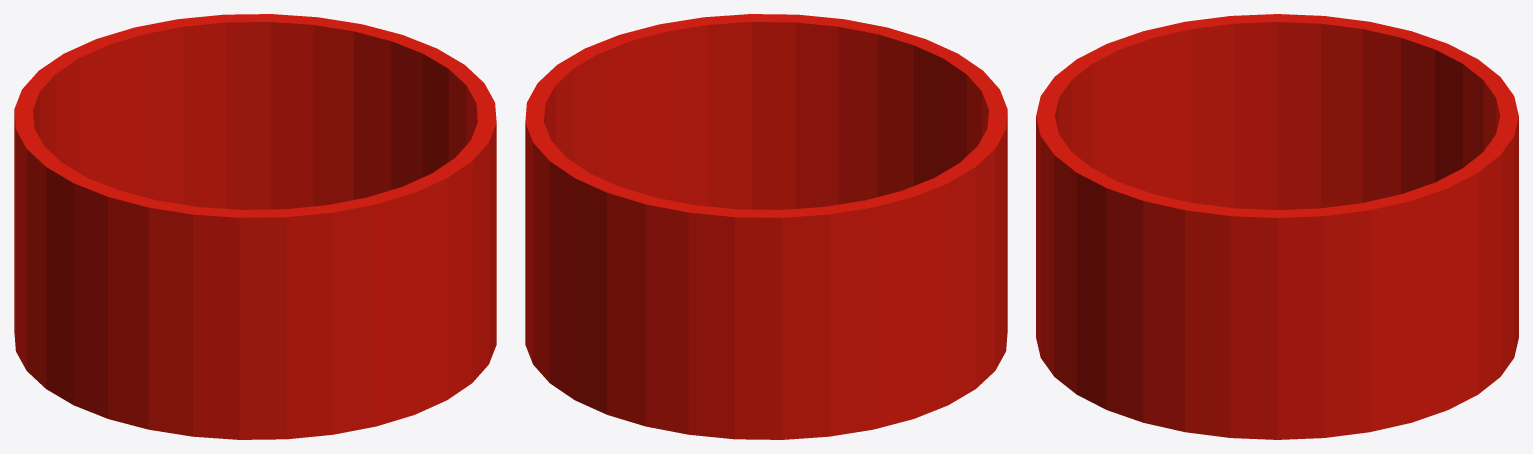
File: ring_wall.fbx
3 views of the same model, side by side, from view 1: azimuth 30°, elevation 25°; view 2: azimuth 150°, elevation 25°; view 3: azimuth 270°, elevation 25° (orthographic).
Visible parts, largest first — view 1: Cylinder; view 2: Cylinder; view 3: Cylinder.
Part boxes in pixels (bbox=[...]): Cylinder: bbox=[14, 14, 496, 439]; Cylinder: bbox=[525, 14, 1007, 439]; Cylinder: bbox=[1036, 14, 1518, 439].
Size of the model in its own units: 23.2 by 11.76 by 23.2.
